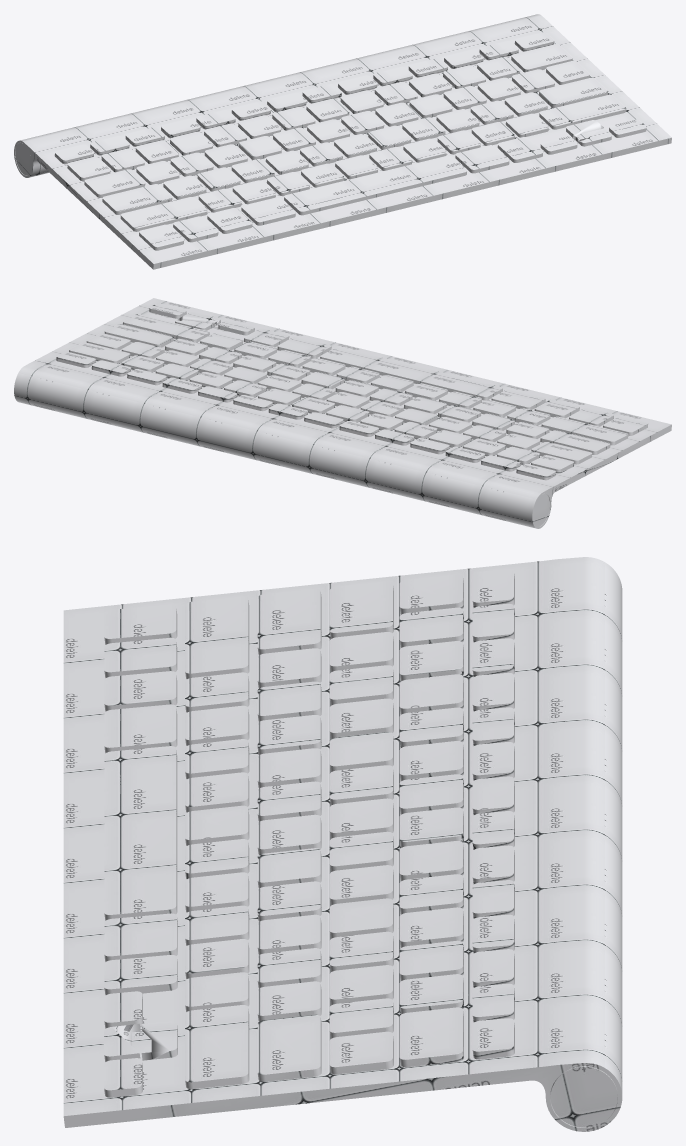
Rendered from uploads_files_675076_keyboard+model.fbx.
3 views of the same model, one above another, from view 1: azimuth 30°, elevation 25°; view 2: azimuth 150°, elevation 25°; view 3: azimuth 270°, elevation 25° (orthographic). The views are drawn at different scales.
Visible parts, largest first — view 1: keyboard; view 2: keyboard; view 3: keyboard.
Boxes of the visible parts, x1=… form: keyboard: x1=14, y1=14, x2=671, y2=269; keyboard: x1=14, y1=298, x2=671, y2=528; keyboard: x1=63, y1=557, x2=622, y2=1131.
Size of the model in its own units: 1655 by 106 by 773.
Materials: 1 (1 with a texture image).
